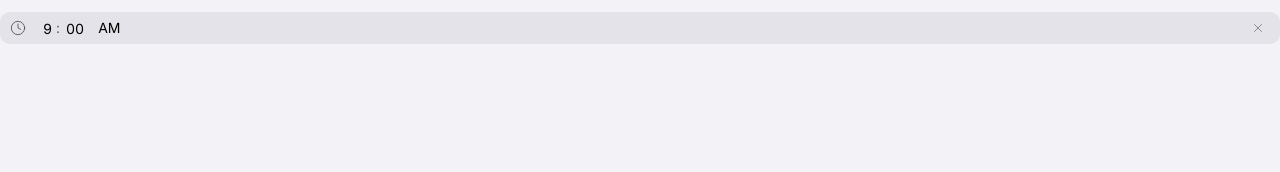
typing › clamps an impossible hour when the field is left, not while typing
Click the field named "hour".
click(41, 28)  # box [30,12,52,44]
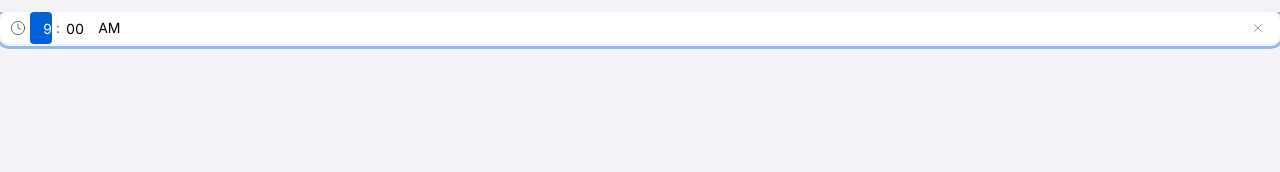
Type keys "19"
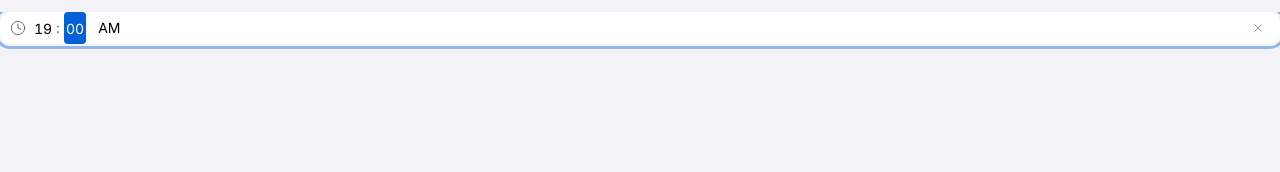
Now the field named "hour" holds "19", box [30,12,52,44]
Press Tab
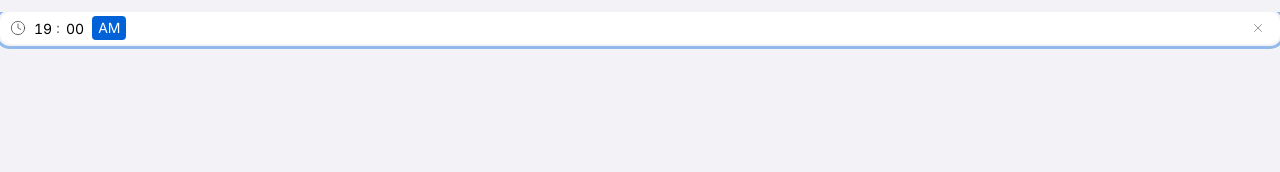
Press Tab
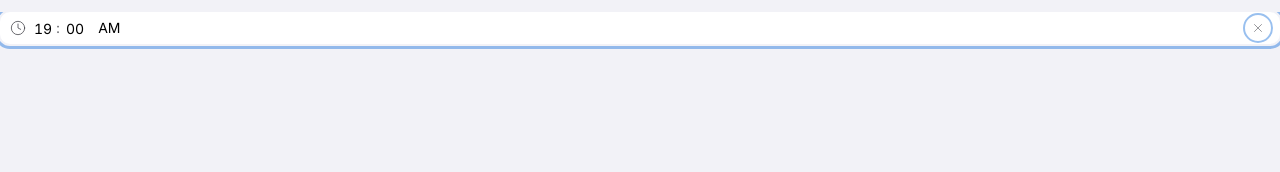
Press Tab
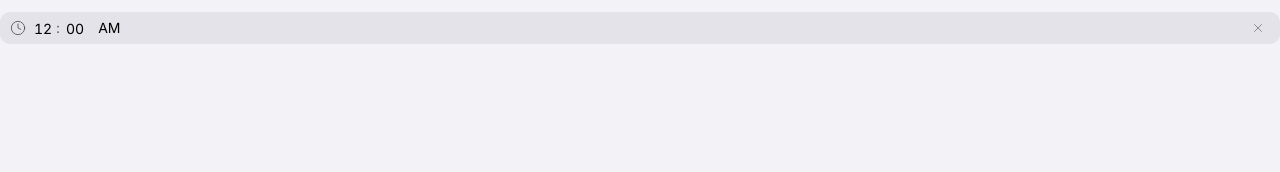
Now the field named "hour" holds "12", box [30,12,52,44]
